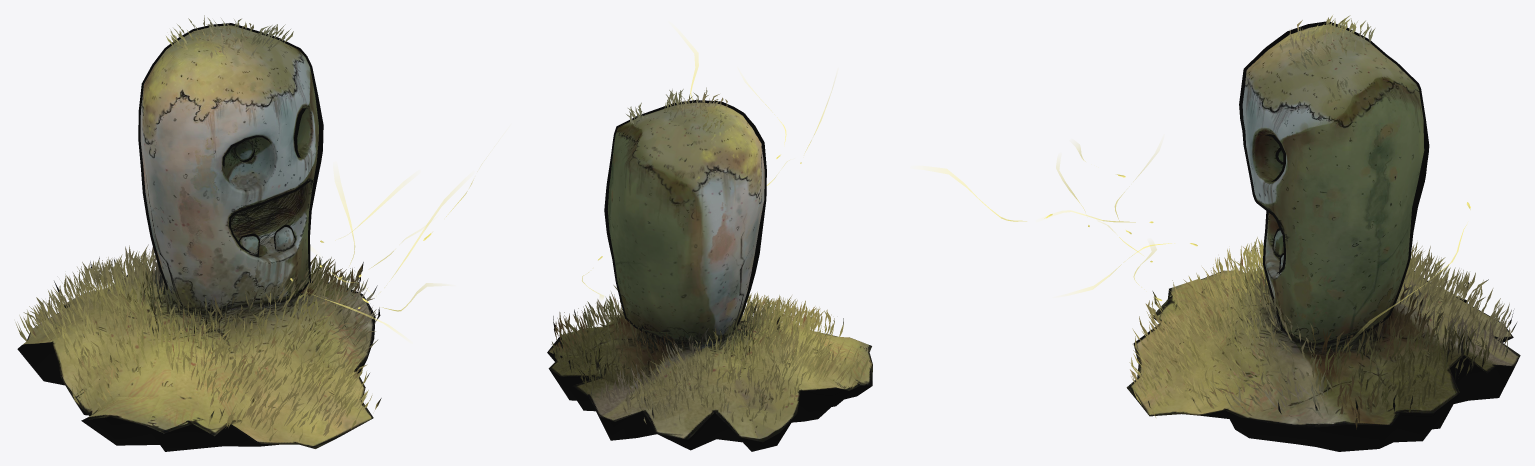
3 renders of one model, left to right at view 1: azimuth 30°, elevation 25°; view 2: azimuth 150°, elevation 25°; view 3: azimuth 270°, elevation 25°, orthographic. The views are drawn at different scales.
Parts seen in each view (by area): view 1: rock, grass, outline, bugs; view 2: rock, grass, outline, bugs; view 3: rock, grass, outline, bugs.
Part boxes in pixels (x1,y1,x2,y2): rock: (22,25,375,448); grass: (15,15,381,441); outline: (17,23,366,451); bugs: (290,160,484,334); rock: (547,102,872,442); grass: (551,87,872,426); outline: (547,100,871,451); bugs: (582,38,834,298); rock: (1126,24,1520,427); grass: (1129,15,1516,429); outline: (1153,21,1514,451); bugs: (930,144,1470,337).
Bounding box in the file's own units: 4.74 × 4.56 × 7.11.
4 materials, 3 textured.
